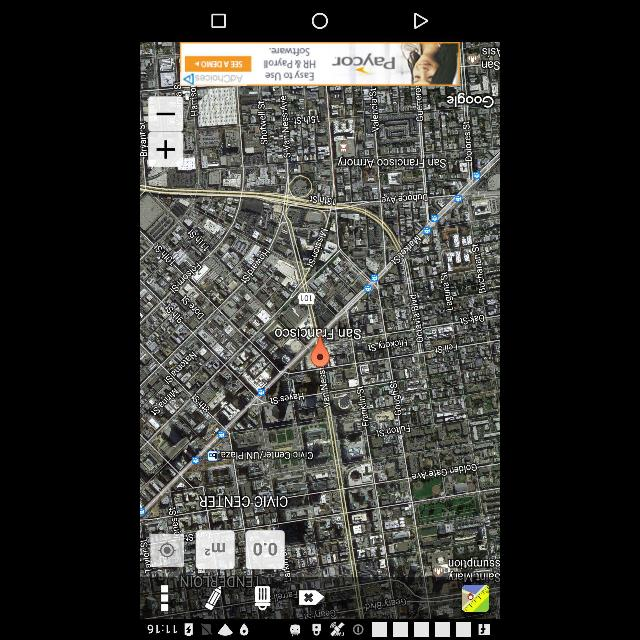icon: (255, 586, 271, 610), (205, 586, 221, 610), (300, 591, 324, 605), (157, 541, 175, 559), (312, 12, 328, 30), (414, 12, 428, 30), (212, 14, 226, 28), (162, 585, 168, 611)
image: (462, 584, 488, 612)
map: (140, 43, 500, 577)
panel: (140, 1, 500, 42)
uppertaskbar: (140, 620, 500, 640)
